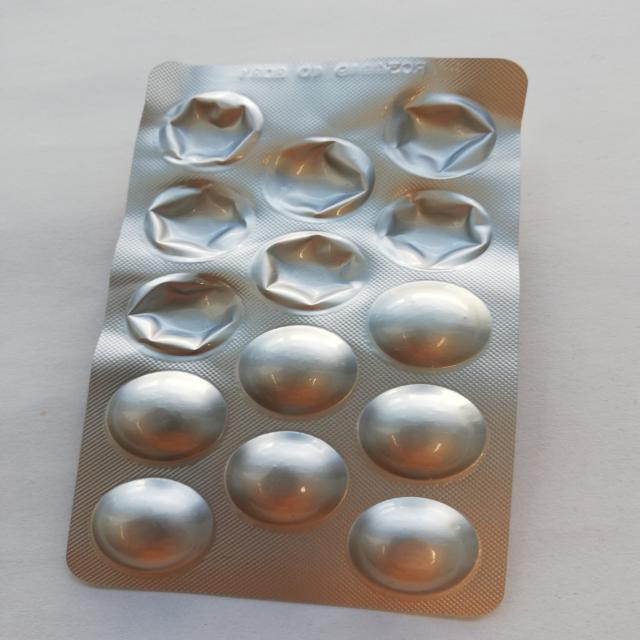Empty: (379, 88, 504, 182), (123, 268, 245, 356), (378, 189, 502, 273), (141, 177, 254, 264), (256, 231, 367, 317), (265, 138, 376, 222), (155, 88, 264, 172)
Pill: (349, 493, 481, 598), (85, 473, 218, 576), (227, 428, 349, 532), (358, 381, 490, 477), (104, 368, 230, 468), (238, 323, 357, 419), (369, 282, 496, 370)
